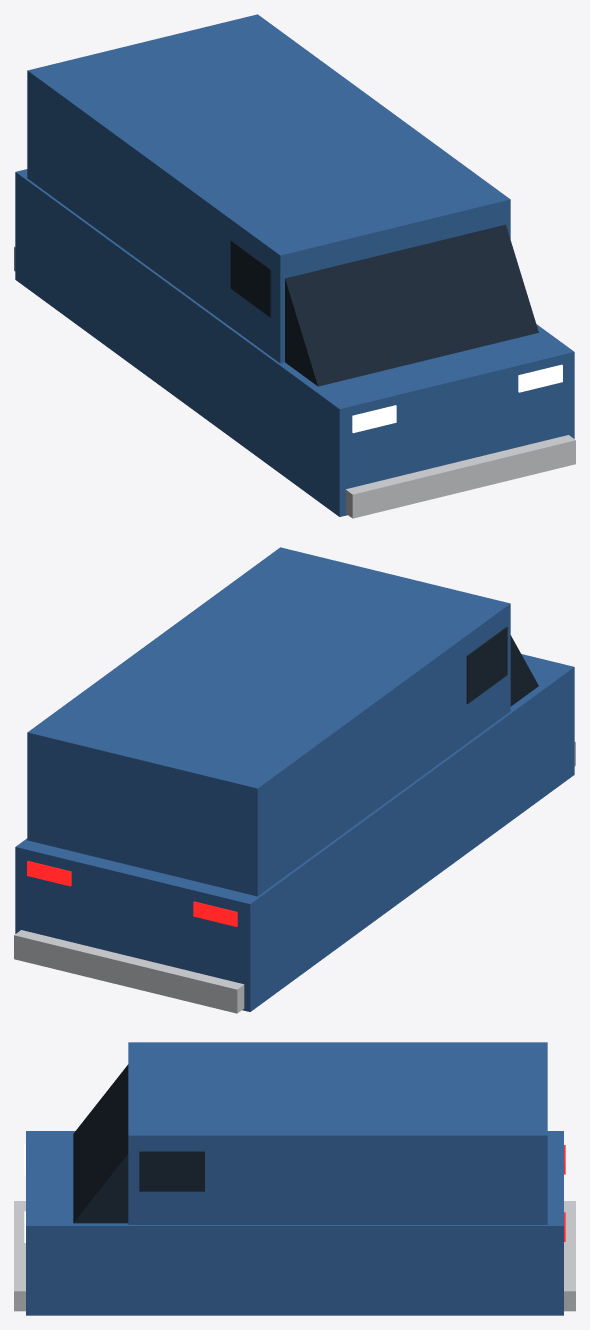
File: van.glb
The picture shows the model from 3 angles, top to bottom: view 1: azimuth 30°, elevation 25°; view 2: azimuth 150°, elevation 25°; view 3: azimuth 270°, elevation 25°; orthographic projection. The views are drawn at different scales.
Visible parts, largest first — view 1: body; view 2: body; view 3: body.
Boxes of the visible parts, x1,y1,x2,y2 form: body: [14, 14, 575, 518]; body: [14, 547, 575, 1013]; body: [14, 1042, 575, 1315].
Size of the model in its own units: 2.07 by 1.8 by 5.12.
